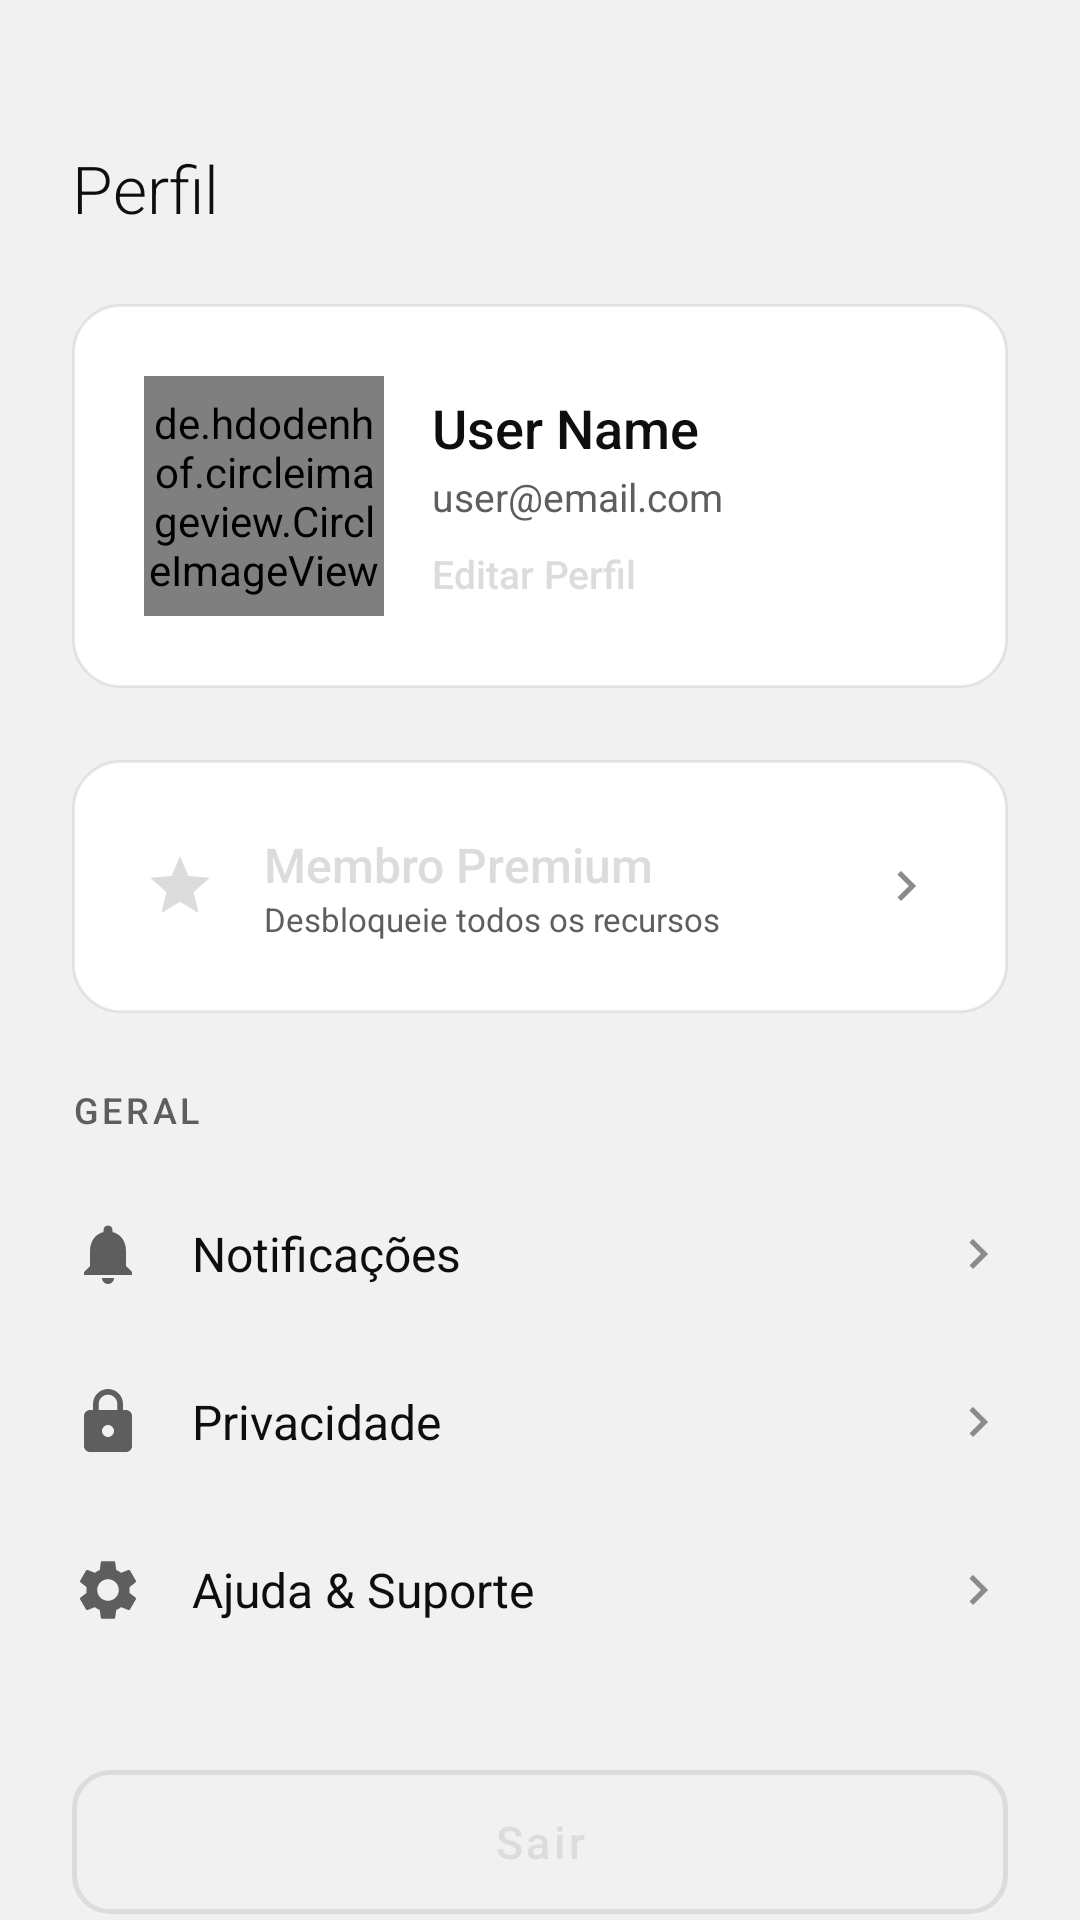

Icons on this 1080px×1920px Android screen, each with its box as (x1, y1, x2, y2):
Membership: (151, 858, 209, 912)
Notifications: (84, 1225, 132, 1284)
Open: (897, 871, 916, 901), (969, 1239, 988, 1269), (969, 1407, 988, 1437), (969, 1575, 988, 1605)
Privacy: (84, 1389, 132, 1452)
